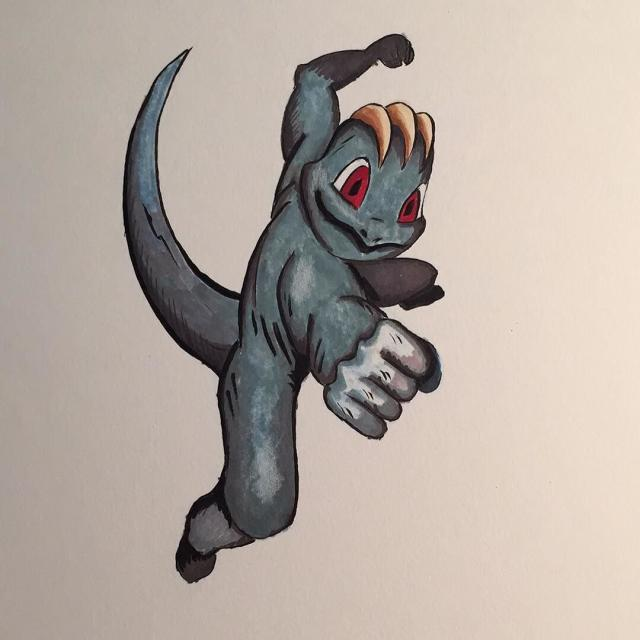Machop: (173, 30, 444, 592)
